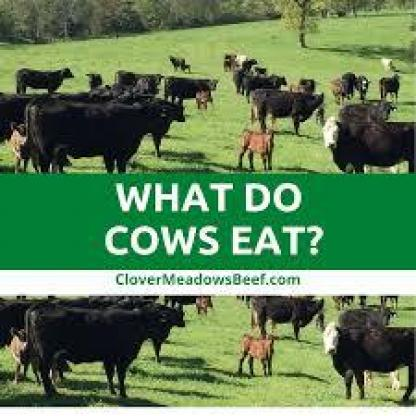cow: (19, 304, 175, 400), (23, 99, 171, 173), (321, 316, 416, 404), (323, 115, 416, 172), (248, 293, 327, 341), (251, 91, 328, 136), (233, 331, 277, 377), (164, 76, 221, 111), (12, 68, 75, 97), (240, 128, 274, 168), (380, 75, 400, 101)
